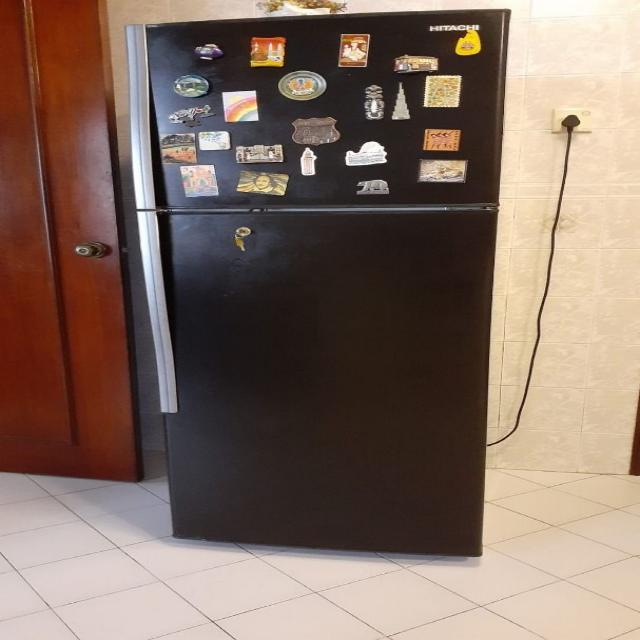refrigerator: (125, 6, 511, 563)
